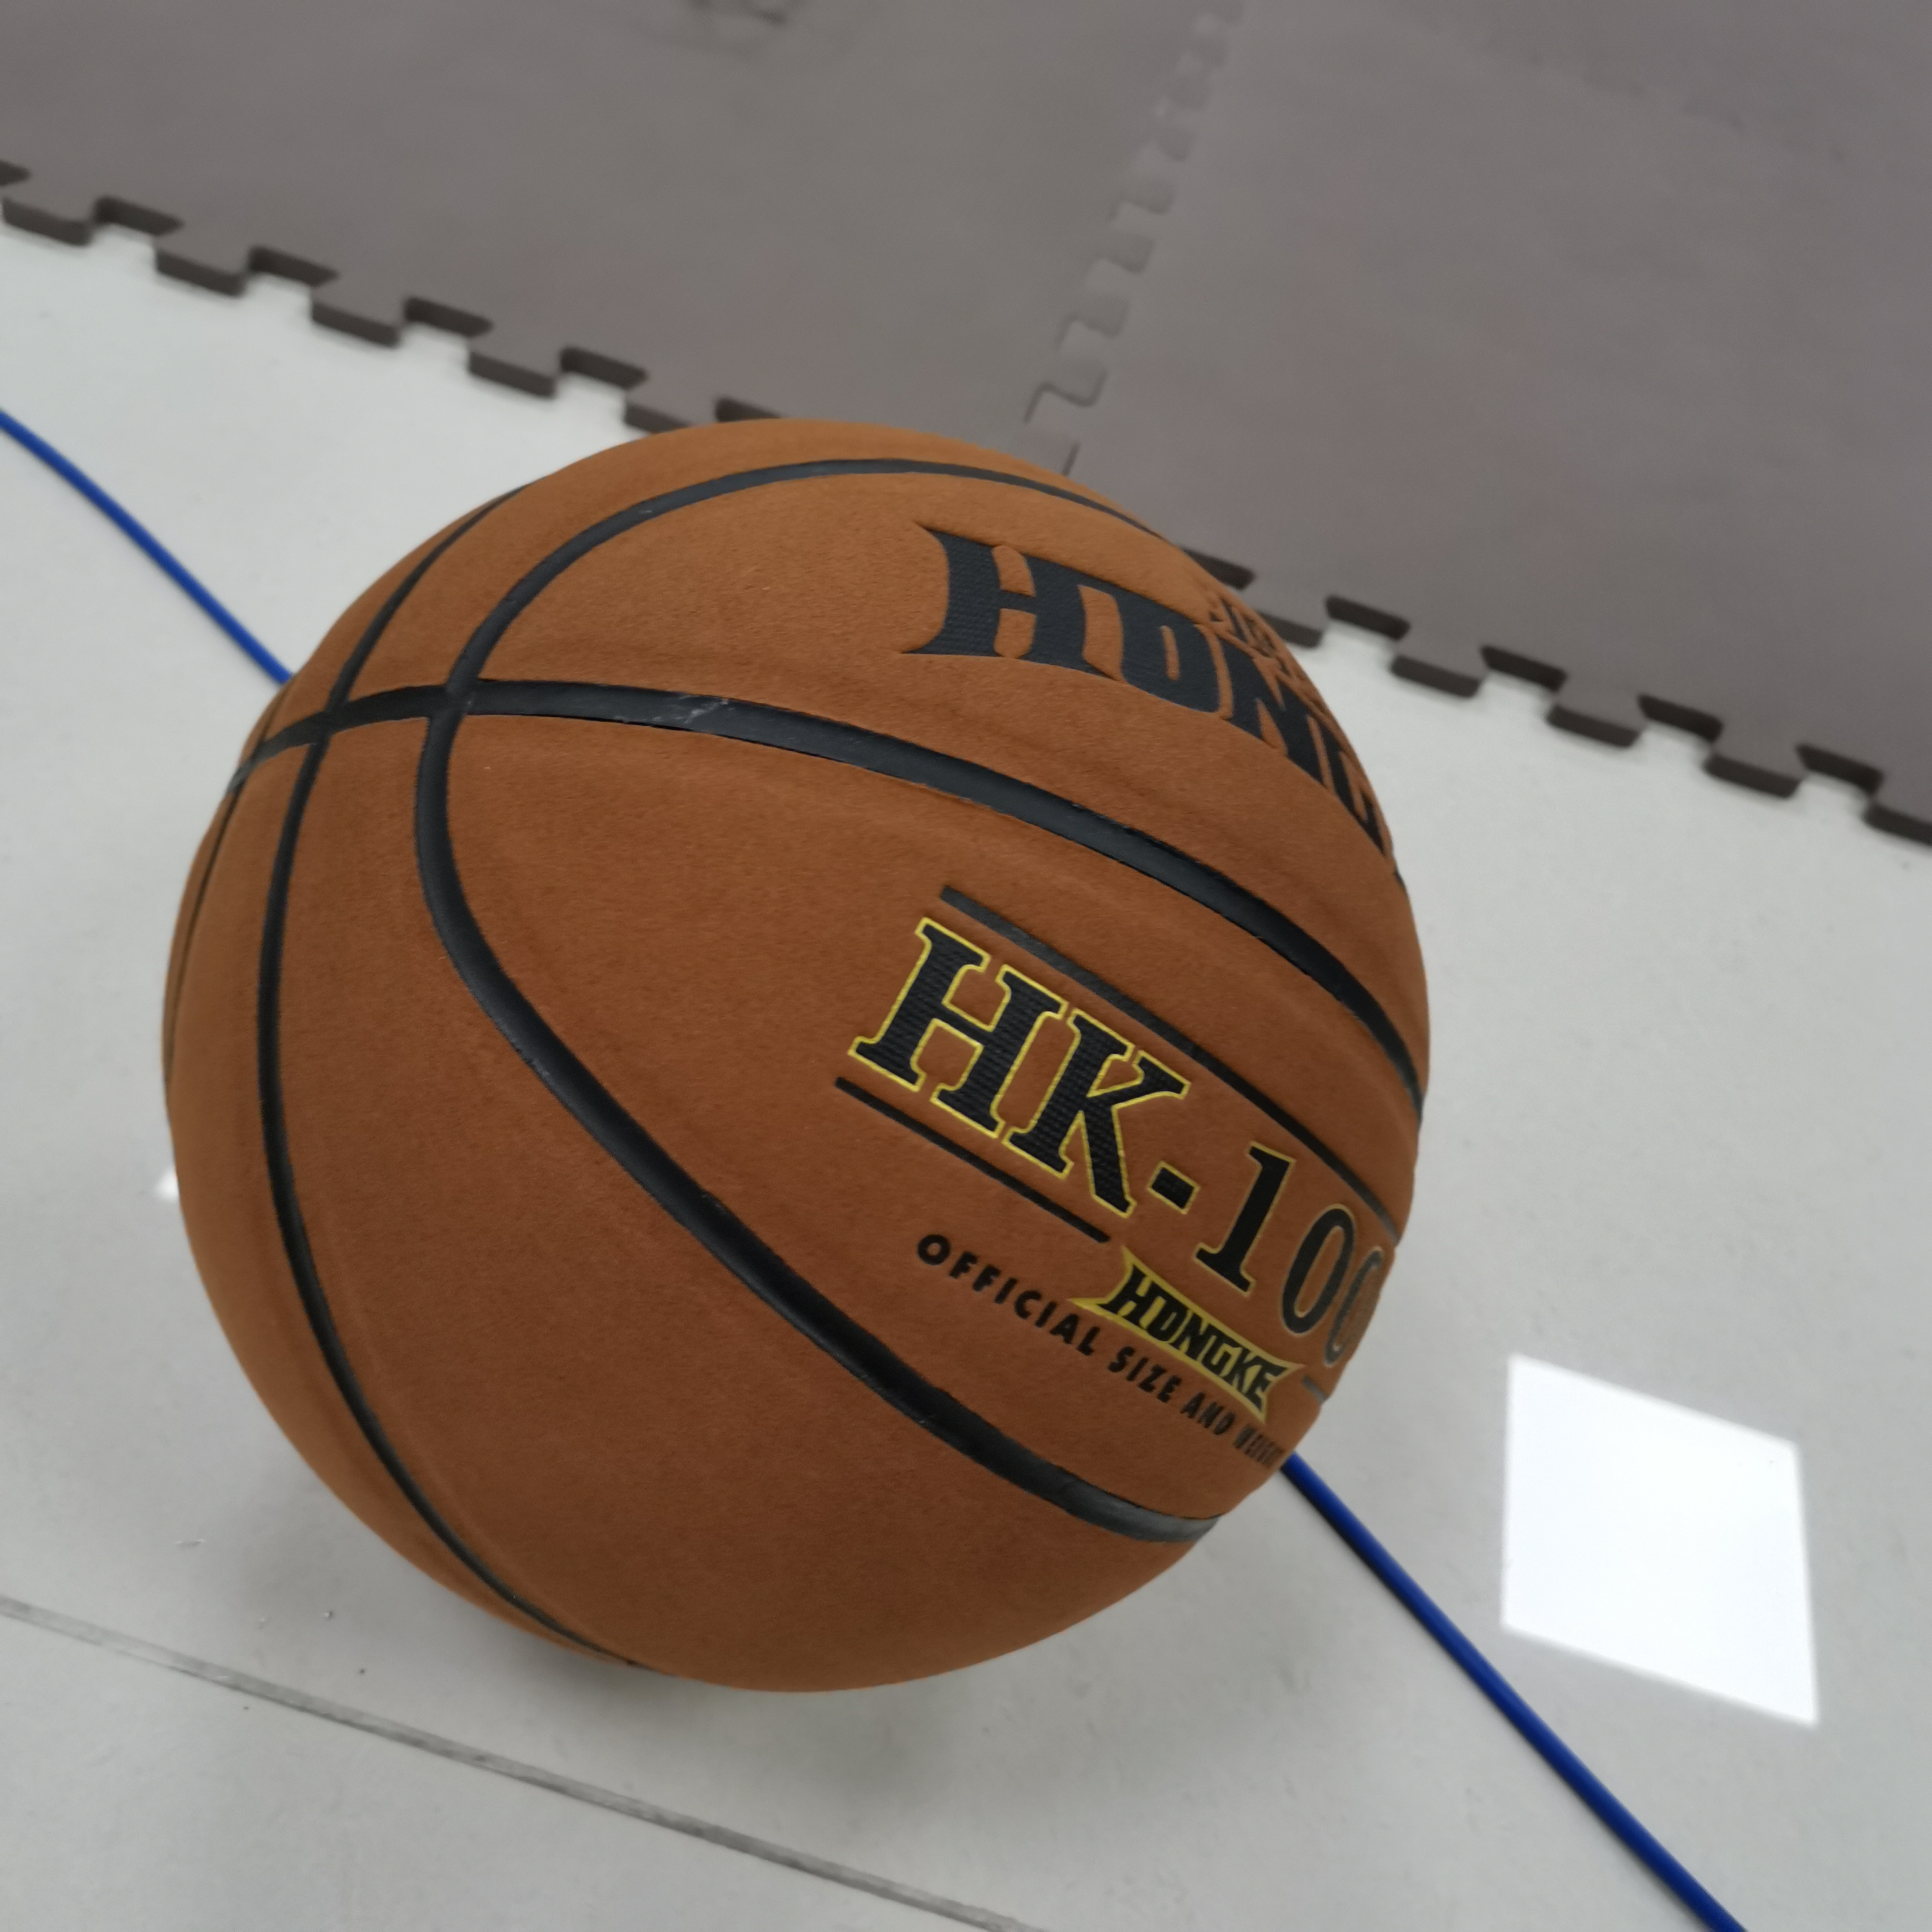basketball: (150, 430, 1430, 1697)
